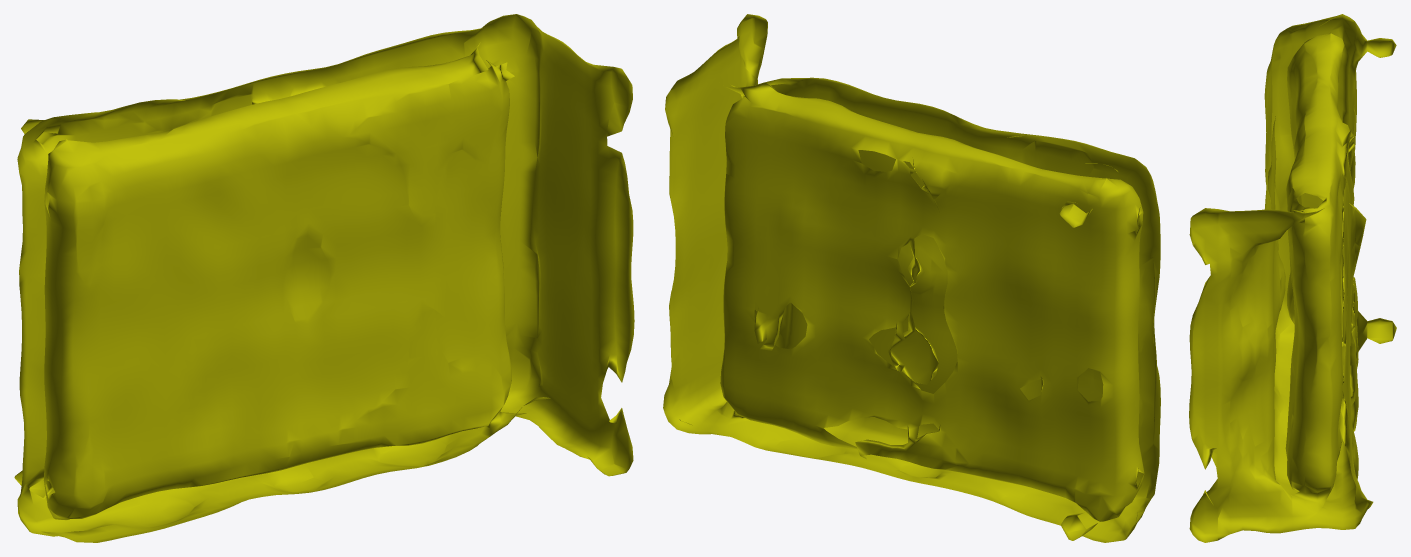
3 renders of one model, left to right at view 1: azimuth 30°, elevation 25°; view 2: azimuth 150°, elevation 25°; view 3: azimuth 270°, elevation 25°, orthographic. The views are drawn at different scales.
Visible parts, largest first — view 1: world; view 2: world; view 3: world.
Part boxes in pixels (x1=…): world: x1=14, y1=14, x2=634, y2=542; world: x1=663, y1=14, x2=1160, y2=542; world: x1=1189, y1=14, x2=1396, y2=542.
Size of the model in its own units: 39.67 by 29.75 by 16.67.
